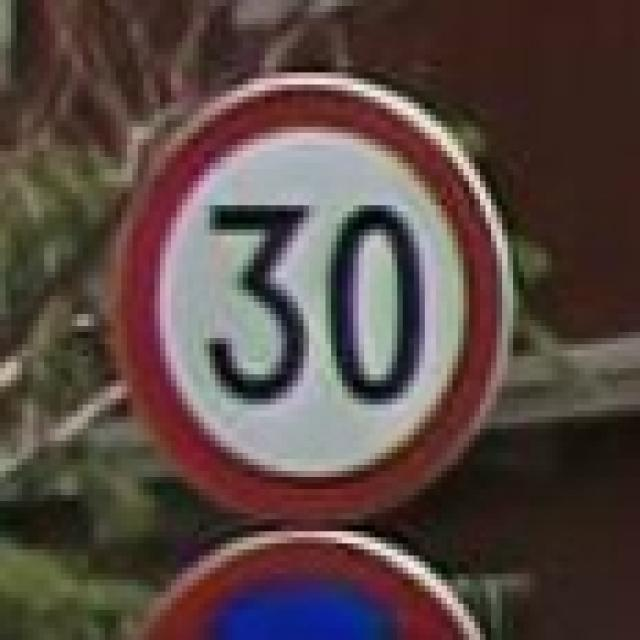Speed Limit -30-: (201, 196, 437, 409)
